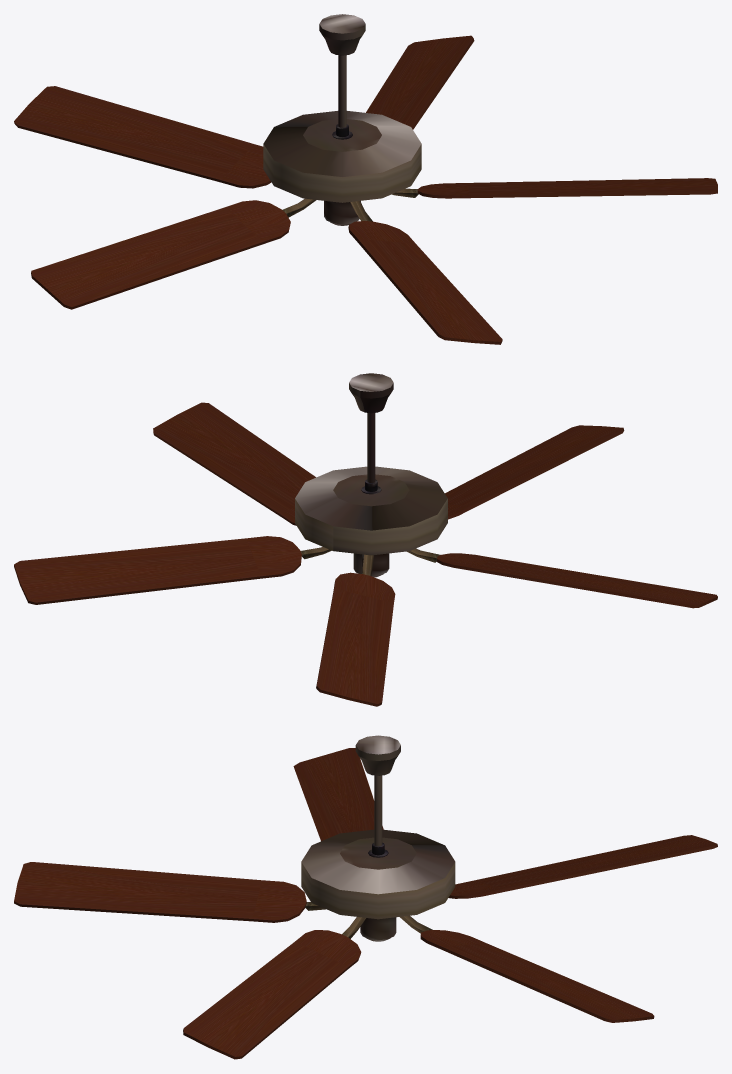
Rendered from 52_bloxwood_renaissance_ceiling_fan.glb.
3 views of the same model, one above another, from view 1: azimuth 30°, elevation 25°; view 2: azimuth 150°, elevation 25°; view 3: azimuth 270°, elevation 25° (orthographic). The views are drawn at different scales.
Visible parts, largest first — view 1: Plane.003_0, Cylinder.001_1, Cylinder.002_5, Cylinder.006_7, Cylinder.004_3; view 2: Plane.003_0, Cylinder.001_1, Cylinder.002_5, Cylinder.004_3, Cylinder.006_7; view 3: Plane.003_0, Cylinder.001_1, Cylinder.002_5, Cylinder.006_7, Cylinder.004_3.
Part boxes in pixels (left/top/right/bottom): Plane.003_0: left=14, top=35, right=717, bottom=344; Cylinder.001_1: left=263, top=111, right=421, bottom=202; Cylinder.002_5: left=319, top=14, right=365, bottom=55; Cylinder.006_7: left=324, top=201, right=360, bottom=225; Cylinder.004_3: left=338, top=55, right=346, bottom=127; Plane.003_0: left=14, top=402, right=717, bottom=706; Cylinder.001_1: left=295, top=466, right=447, bottom=555; Cylinder.002_5: left=349, top=373, right=393, bottom=413; Cylinder.004_3: left=367, top=413, right=375, bottom=482; Cylinder.006_7: left=353, top=553, right=389, bottom=577; Plane.003_0: left=14, top=748, right=717, bottom=1059; Cylinder.001_1: left=301, top=829, right=455, bottom=919; Cylinder.002_5: left=355, top=735, right=400, bottom=775; Cylinder.006_7: left=360, top=917, right=396, bottom=941; Cylinder.004_3: left=374, top=775, right=382, bottom=846.
Bounding box in the file's own units: 19.34 × 5.86 × 19.38.
Materials: 3 (3 with a texture image).
